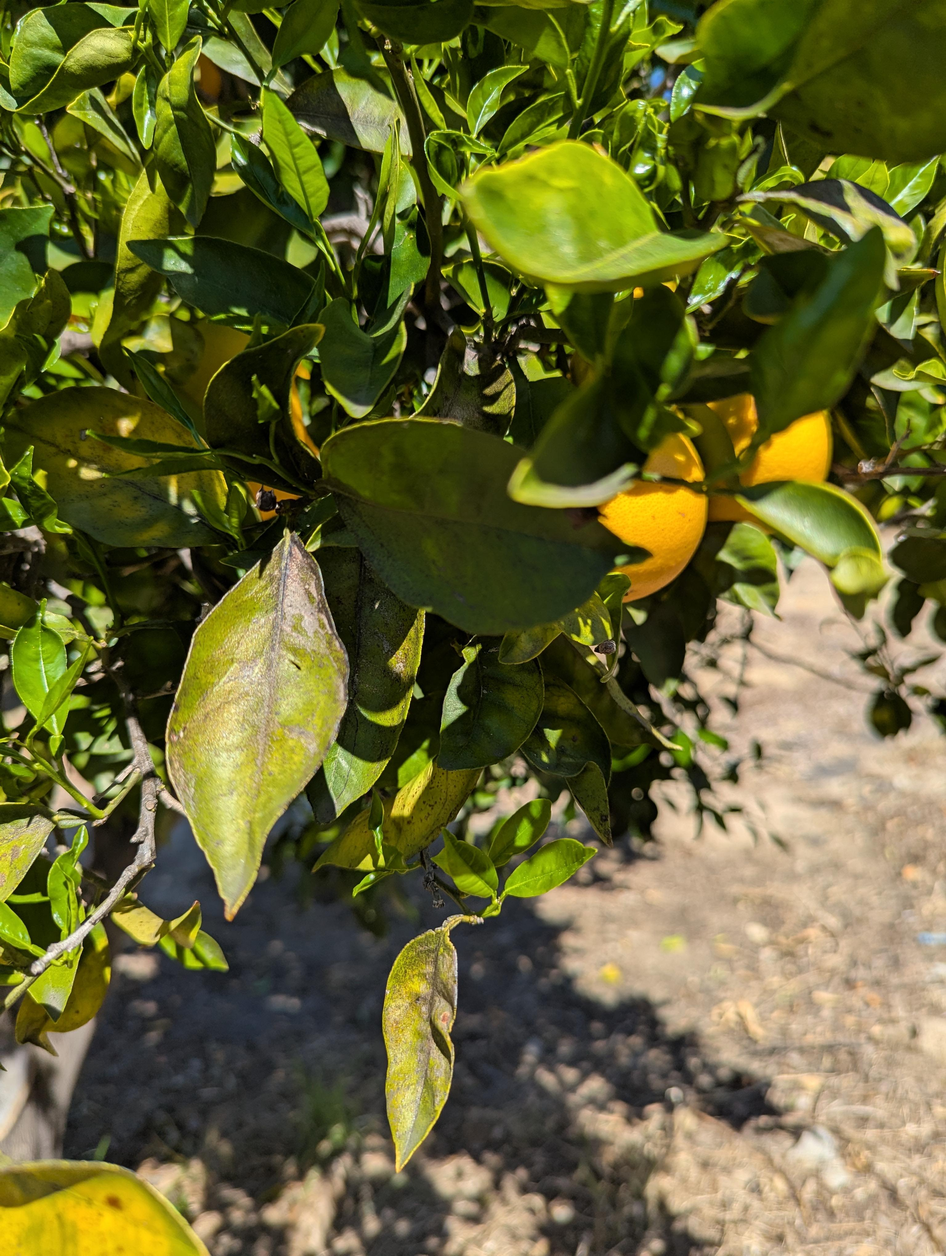orange: (597, 434, 708, 603), (704, 393, 832, 534)
